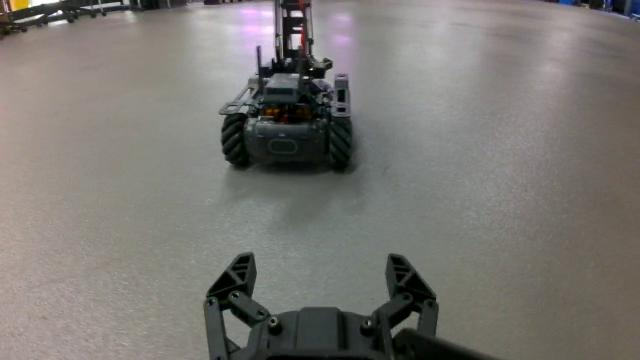robot: (217, 0, 355, 174)
